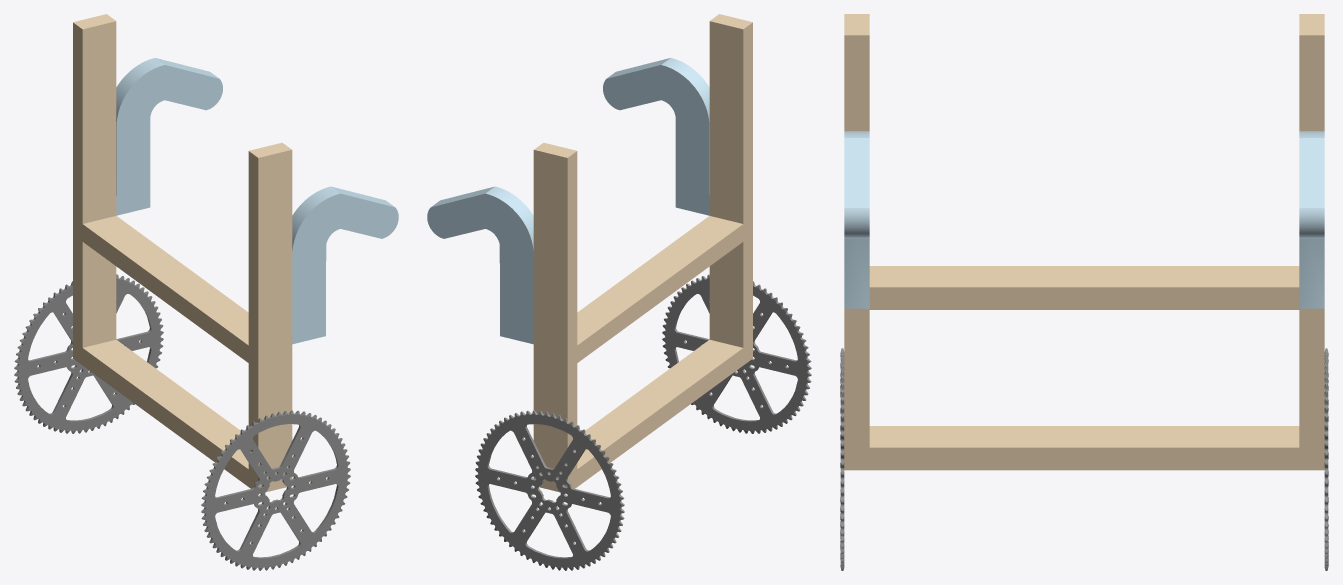
The model's file is Arm.dae.
The picture shows the model from 3 angles, left to right: view 1: azimuth 30°, elevation 25°; view 2: azimuth 150°, elevation 25°; view 3: azimuth 270°, elevation 25°; orthographic projection. The views are drawn at different scales.
Parts seen in each view (by area): view 1: Arm; view 2: Arm; view 3: Arm.
Boxes of the visible parts, x1,y1,x2,y2 form: Arm: [14, 14, 398, 570]; Arm: [427, 14, 811, 570]; Arm: [840, 14, 1328, 570].
Bounding box in the file's own units: 0.2975 × 0.4906 × 0.5944.
